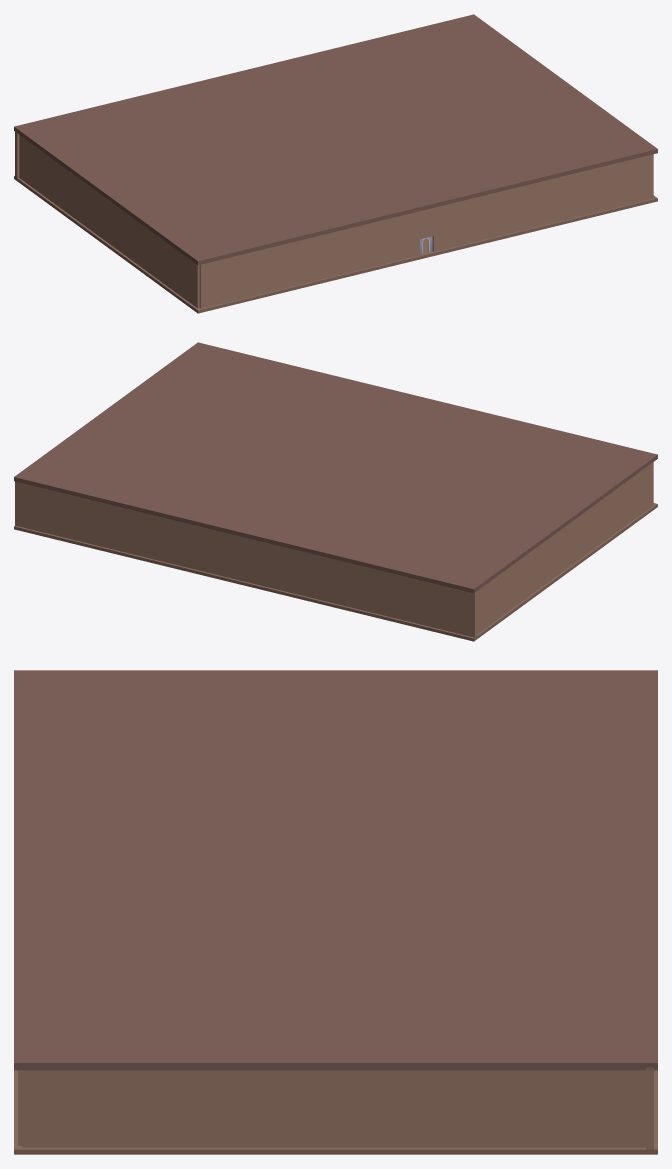
File: world.glb
The picture shows the model from 3 angles, top to bottom: view 1: azimuth 30°, elevation 25°; view 2: azimuth 150°, elevation 25°; view 3: azimuth 270°, elevation 25°; orthographic projection. The views are drawn at different scales.
Parts seen in each view (by area): view 1: Ceiling, Wall_S_L, Wall_S_R, Wall_W, Terrain; view 2: Ceiling, Wall_N, Wall_W, Terrain; view 3: Ceiling, Wall_E, Terrain.
Part boxes in pixels (x1,y1,x2,y2): Ceiling: (14, 14, 657, 265); Wall_S_L: (199, 211, 419, 308); Wall_S_R: (432, 154, 652, 251); Wall_W: (19, 135, 199, 308); Terrain: (14, 176, 657, 313); Ceiling: (14, 342, 657, 593); Wall_N: (15, 481, 477, 637); Wall_W: (477, 462, 653, 633); Terrain: (14, 503, 657, 641); Ceiling: (14, 670, 657, 1070); Wall_E: (22, 1070, 645, 1147); Terrain: (14, 1070, 657, 1154).
Bounding box in the file's own units: 81.4 × 8.85 × 56.4.
Materials: 63 (18 with a texture image).
